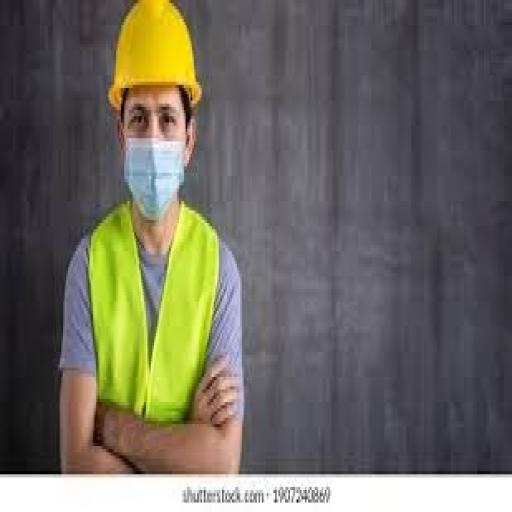mask: (120, 136, 188, 226)
